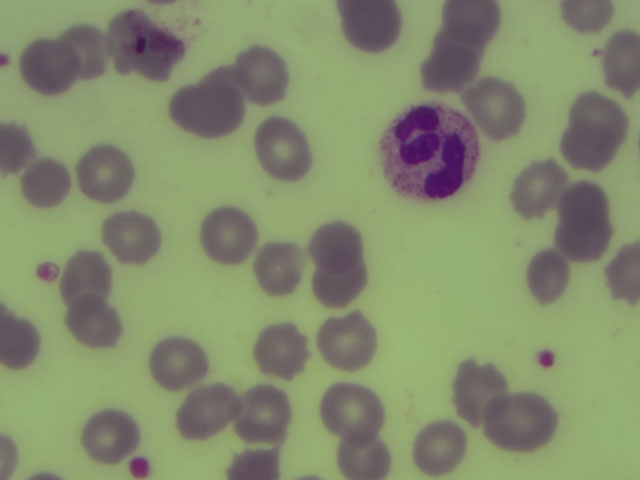Platelets: (38, 260, 61, 281), (535, 347, 553, 367), (130, 457, 147, 475), (1, 53, 13, 71)
RBC: (444, 358, 512, 426), (319, 381, 384, 444), (487, 396, 559, 451), (198, 206, 261, 268), (254, 116, 313, 180), (584, 28, 640, 95), (471, 76, 532, 137), (318, 311, 379, 370), (252, 321, 313, 379), (172, 386, 240, 438), (234, 44, 292, 104), (338, 1, 403, 53), (98, 207, 158, 262), (413, 50, 481, 98), (237, 383, 292, 438), (511, 159, 567, 213), (409, 420, 467, 472), (26, 41, 82, 94), (81, 410, 137, 463), (256, 242, 312, 295), (60, 250, 116, 303), (65, 296, 121, 349), (77, 146, 133, 199), (22, 156, 78, 209), (110, 10, 166, 63), (200, 65, 256, 118), (165, 80, 221, 133), (553, 175, 609, 228), (555, 213, 611, 266), (584, 245, 640, 298), (515, 250, 571, 303), (558, 119, 614, 172), (572, 86, 628, 139), (56, 25, 107, 82), (424, 24, 484, 72), (148, 338, 206, 386), (314, 261, 372, 309), (309, 220, 367, 268), (223, 432, 281, 480), (336, 432, 394, 480), (1, 311, 46, 371), (440, 1, 498, 47), (561, 1, 612, 35), (1, 122, 38, 167), (1, 435, 24, 474)
WBC: (382, 101, 478, 199)
